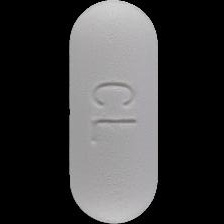68151-5182: (0, 0, 224, 224)
